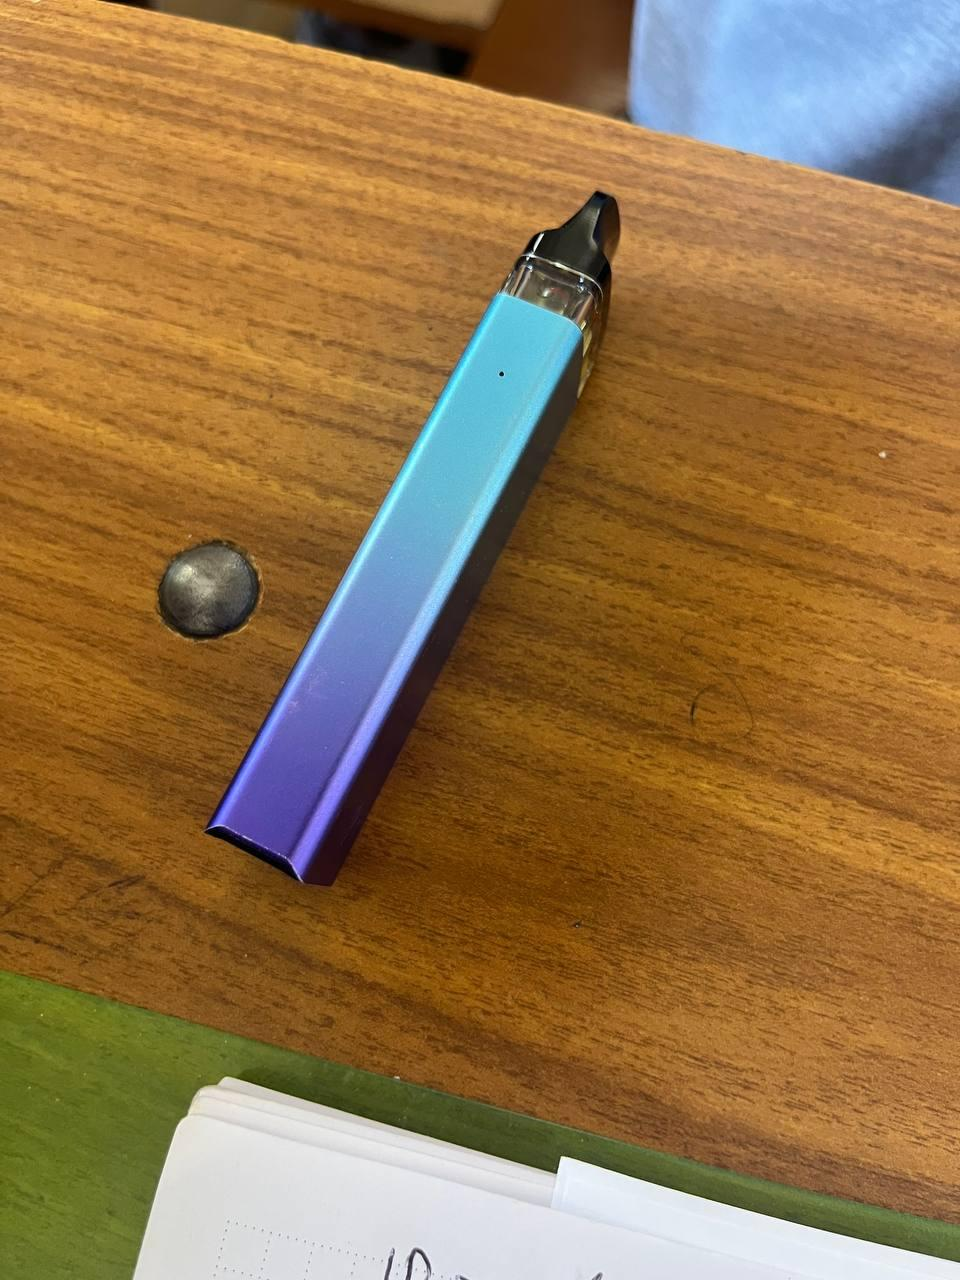Vape: (208, 191, 620, 885)
